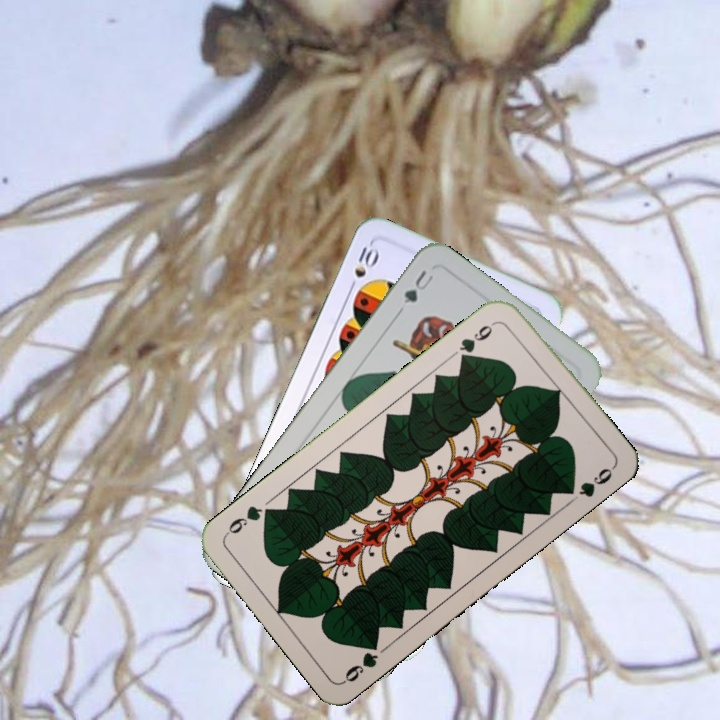G9: (339, 635, 382, 686), (455, 317, 500, 365)
GU: (399, 266, 438, 306)
S10: (344, 239, 382, 295)
